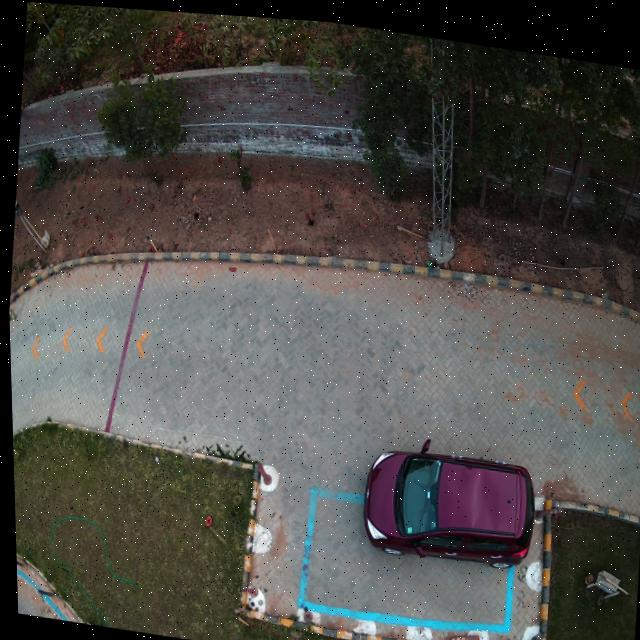car: (360, 444, 531, 561)
